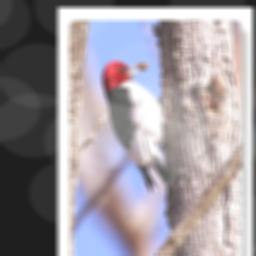Woodpecker: (101, 60, 172, 191)
